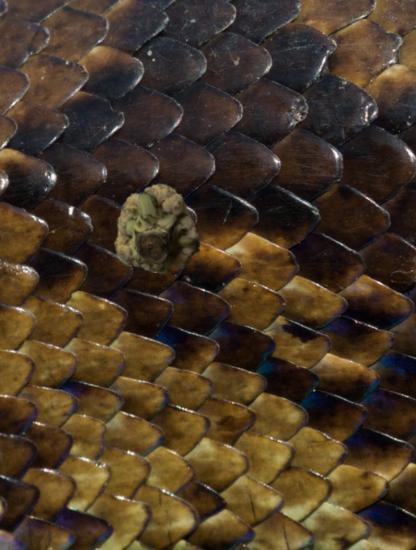Cauliflower: (114, 182, 207, 275)
